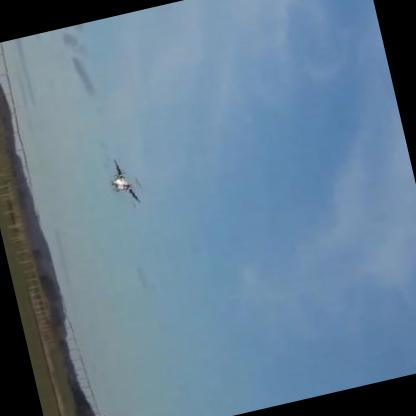plane: (102, 153, 145, 213)
